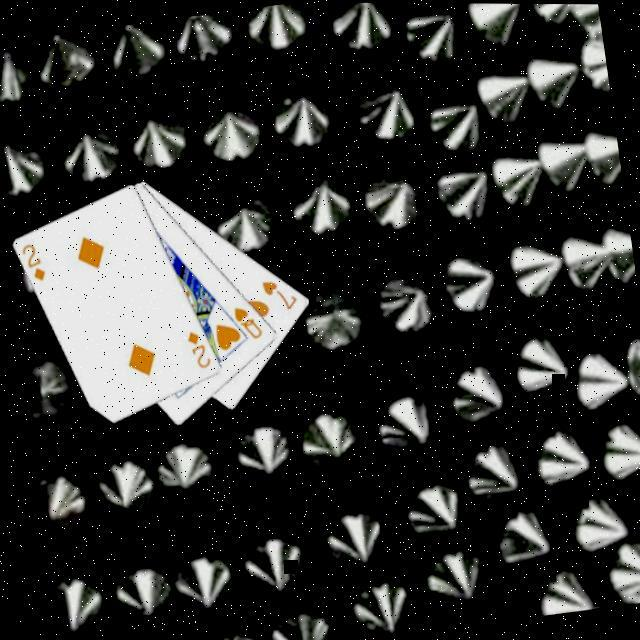2D: (183, 324, 216, 372), (18, 238, 51, 284)
7H: (259, 272, 302, 314)
QH: (231, 300, 268, 344)
